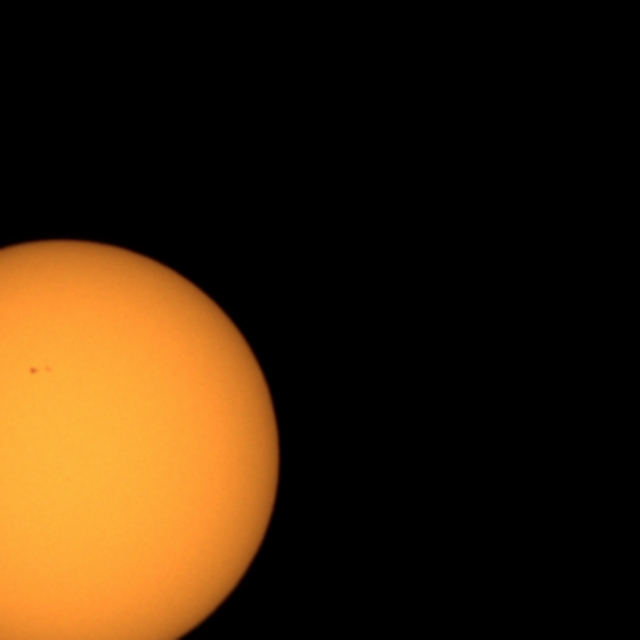sunspot: (27, 363, 55, 378)
